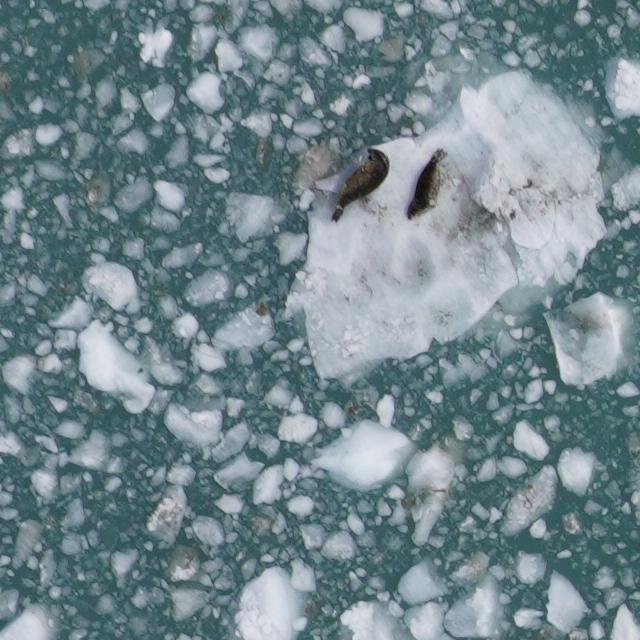seal: (315, 142, 399, 233), (403, 145, 455, 228)
